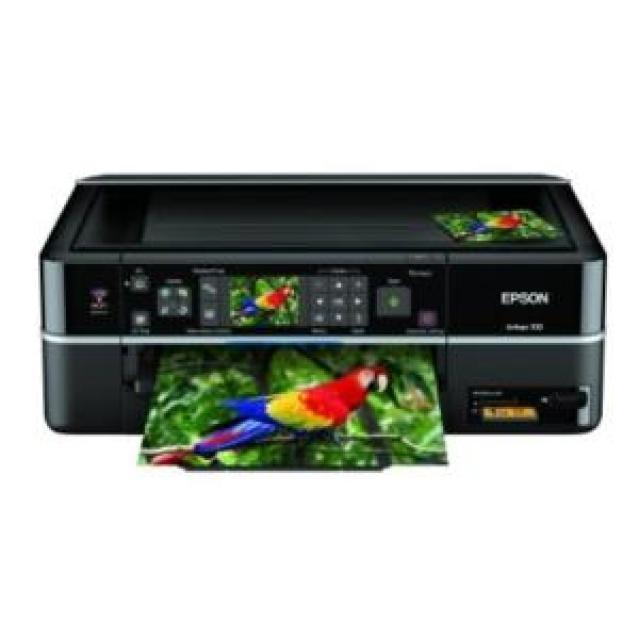Printer: (40, 174, 605, 470)
